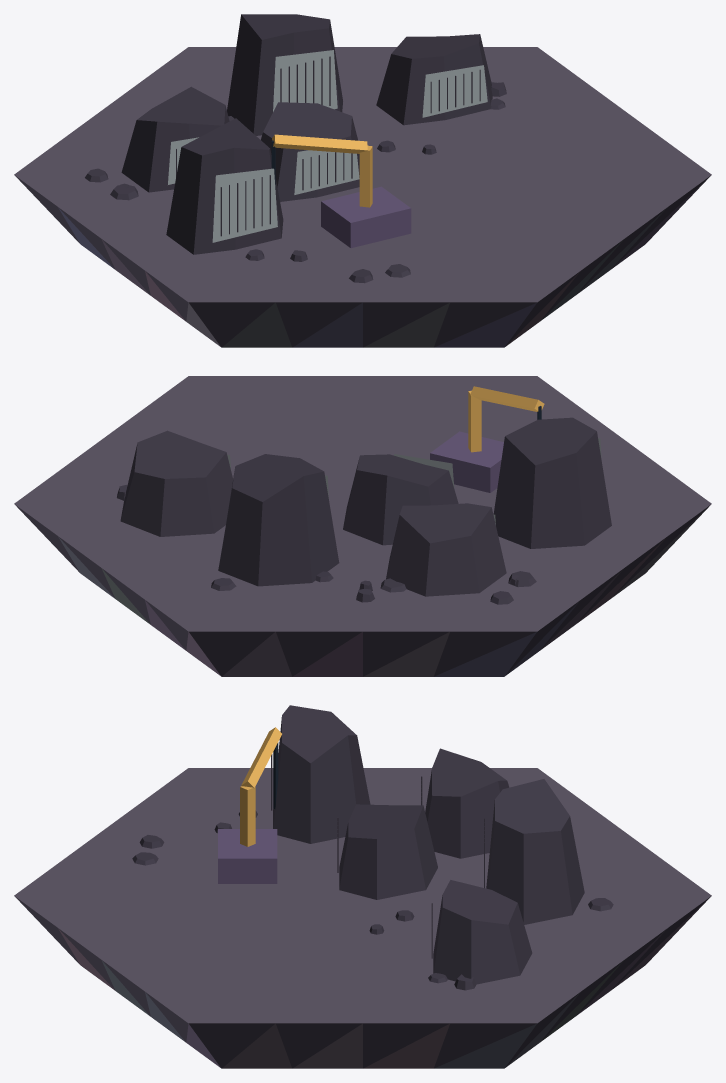
Rendered from space_tile_stone.glb.
The picture shows the model from 3 angles, top to bottom: view 1: azimuth 30°, elevation 25°; view 2: azimuth 150°, elevation 25°; view 3: azimuth 270°, elevation 25°; orthographic projection.
Parts seen in each view (by area): view 1: FixedDetails, BrassTrim; view 2: FixedDetails, BrassTrim; view 3: FixedDetails, BrassTrim.
Boxes of the visible parts, <box> form: FixedDetails: <box>14,14,711,347</box>; BrassTrim: <box>272,134,372,207</box>; FixedDetails: <box>14,376,711,676</box>; BrassTrim: <box>468,386,544,452</box>; FixedDetails: <box>14,705,711,1068</box>; BrassTrim: <box>240,727,281,846</box>.
Size of the model in its own units: 1.73 by 0.5496 by 2.
